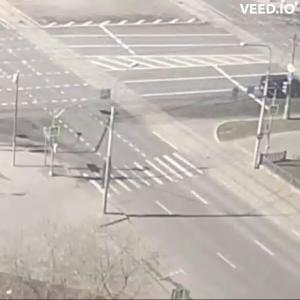car: (261, 73, 300, 100)
